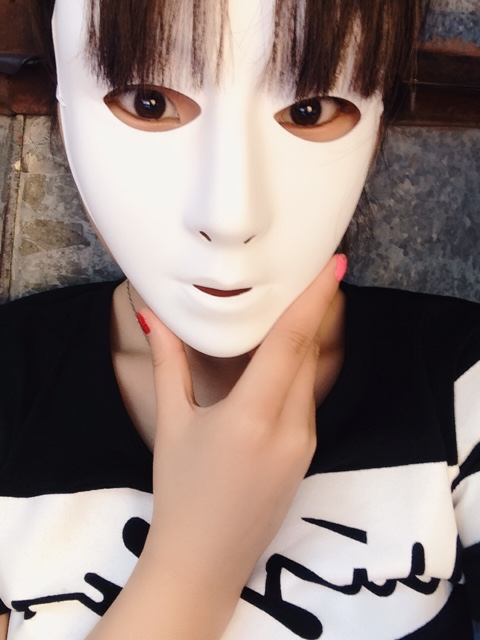face_mask: (67, 0, 377, 355)
